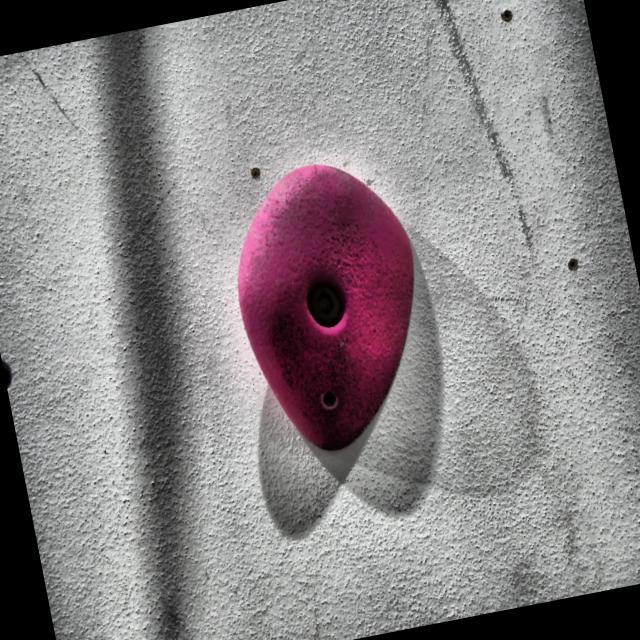Hold: (206, 134, 458, 478)
